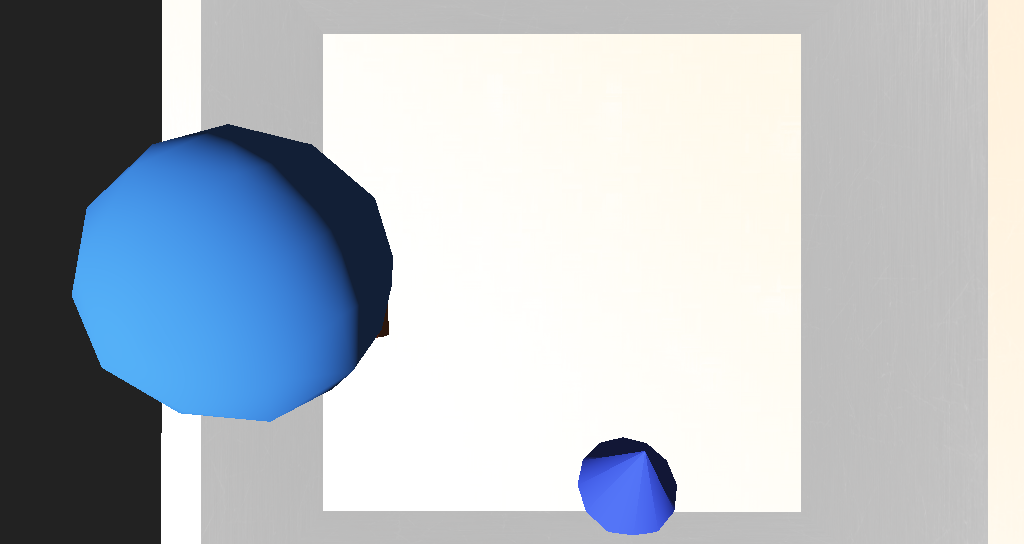cone: (344, 248, 397, 296)
cylinder: (522, 322, 583, 394)
sphere: (303, 229, 411, 305)
